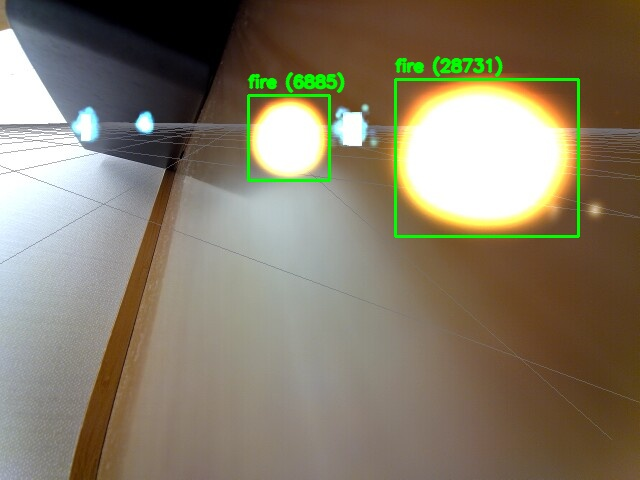fire: (395, 79, 578, 236), (248, 95, 329, 180)
